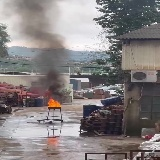fire: (47, 97, 61, 107)
